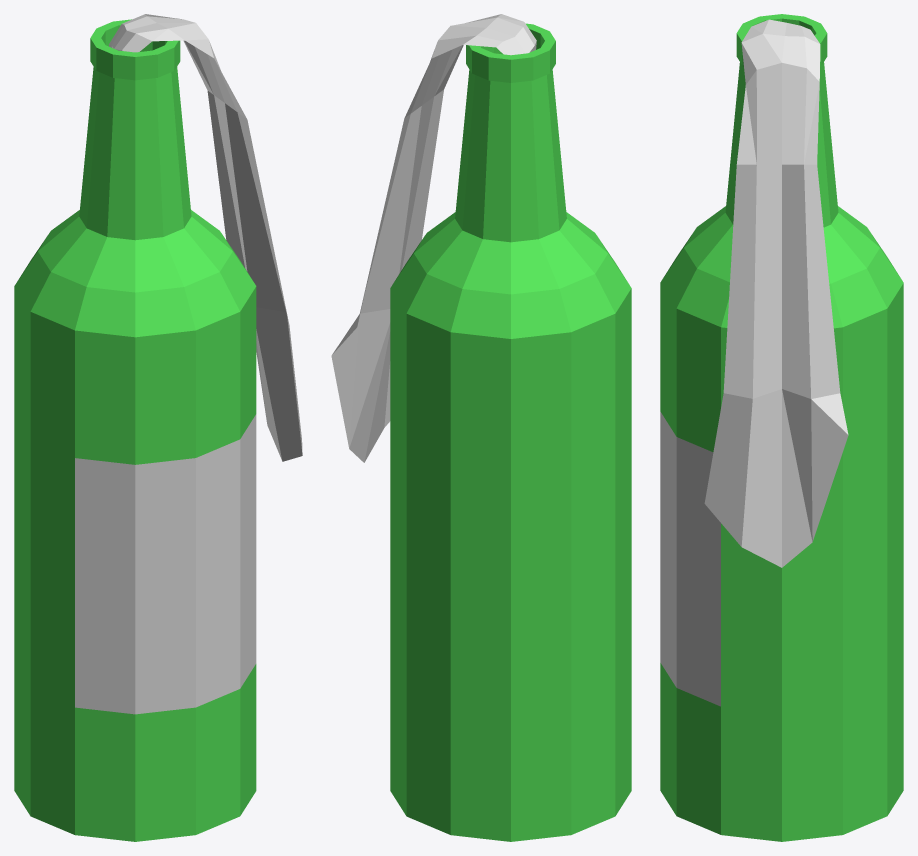
File: MolotovCocktail.fbx
3 views of the same model, side by side, from view 1: azimuth 30°, elevation 25°; view 2: azimuth 150°, elevation 25°; view 3: azimuth 270°, elevation 25° (orthographic).
Visible parts, largest first — view 1: Molotov; view 2: Molotov; view 3: Molotov.
Part boxes in pixels (bbox=[...]): Molotov: bbox=[14, 14, 302, 841]; Molotov: bbox=[331, 14, 631, 841]; Molotov: bbox=[660, 14, 903, 841].
Bounding box in the file's own units: 12.02 × 34.8 × 10.
